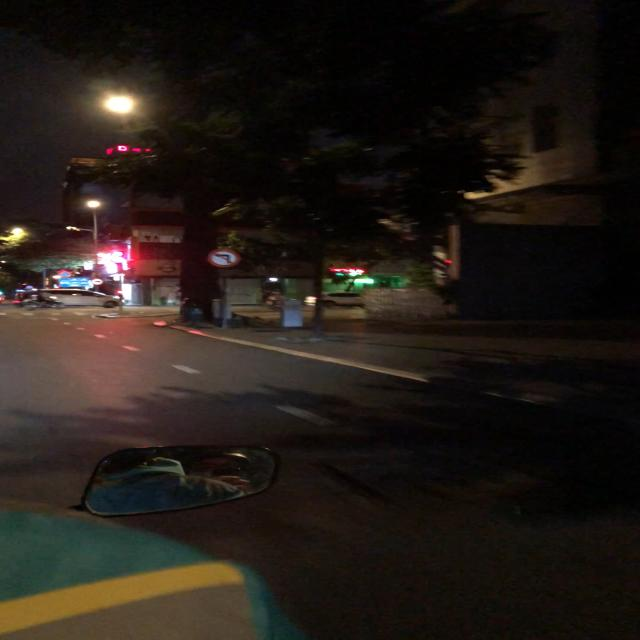Bien bao cam re trai: (206, 247, 244, 271)
Bien bao cam xe so-mi ro-mooc: (90, 277, 107, 287)
